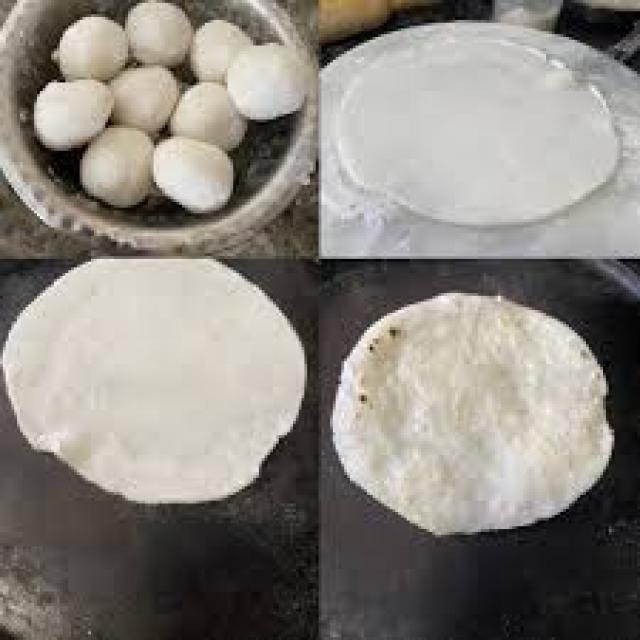IDLI: (31, 77, 108, 145), (48, 11, 125, 74), (171, 82, 242, 145)
RICE BHAKRI: (330, 293, 609, 535)
